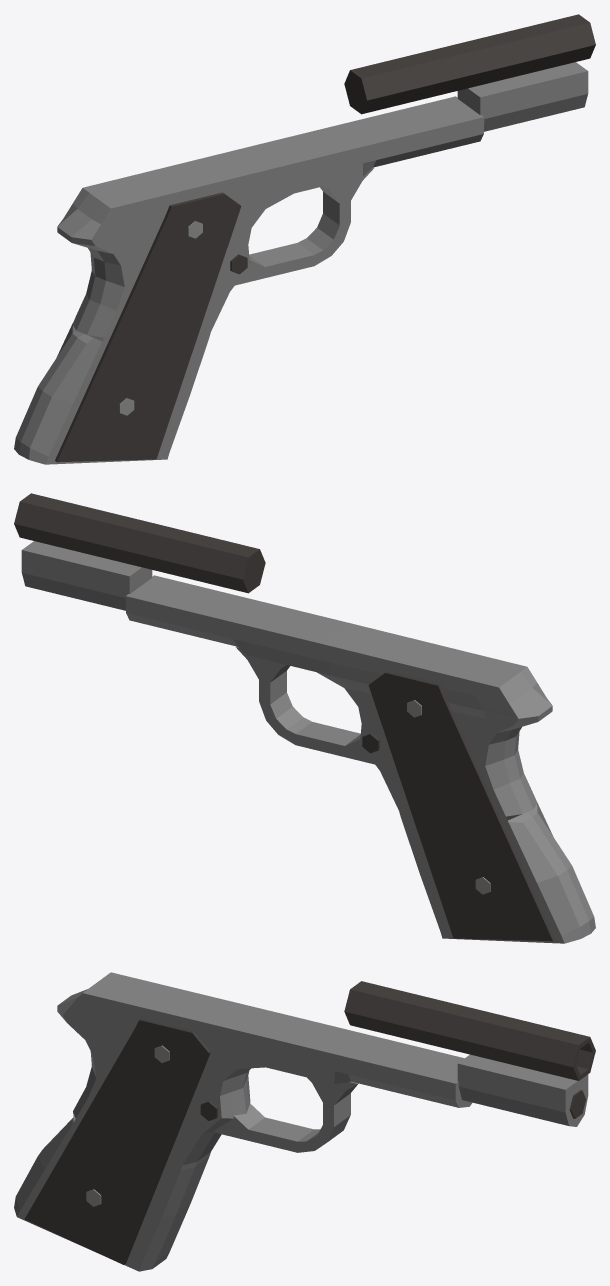
The model's file is Pistol2_02.fbx.
3 renders of one model, top to bottom at view 1: azimuth 30°, elevation 25°; view 2: azimuth 150°, elevation 25°; view 3: azimuth 330°, elevation 25°, orthographic.
Visible parts, largest first — view 1: Pistol2_02; view 2: Pistol2_02; view 3: Pistol2_02.
Part boxes in pixels (left/top/right/bottom): Pistol2_02: left=14, top=14, right=595, bottom=464; Pistol2_02: left=14, top=493, right=595, bottom=943; Pistol2_02: left=14, top=972, right=595, bottom=1271.
Bounding box in the file's own units: 0.2643 × 0.1459 × 0.0274.
